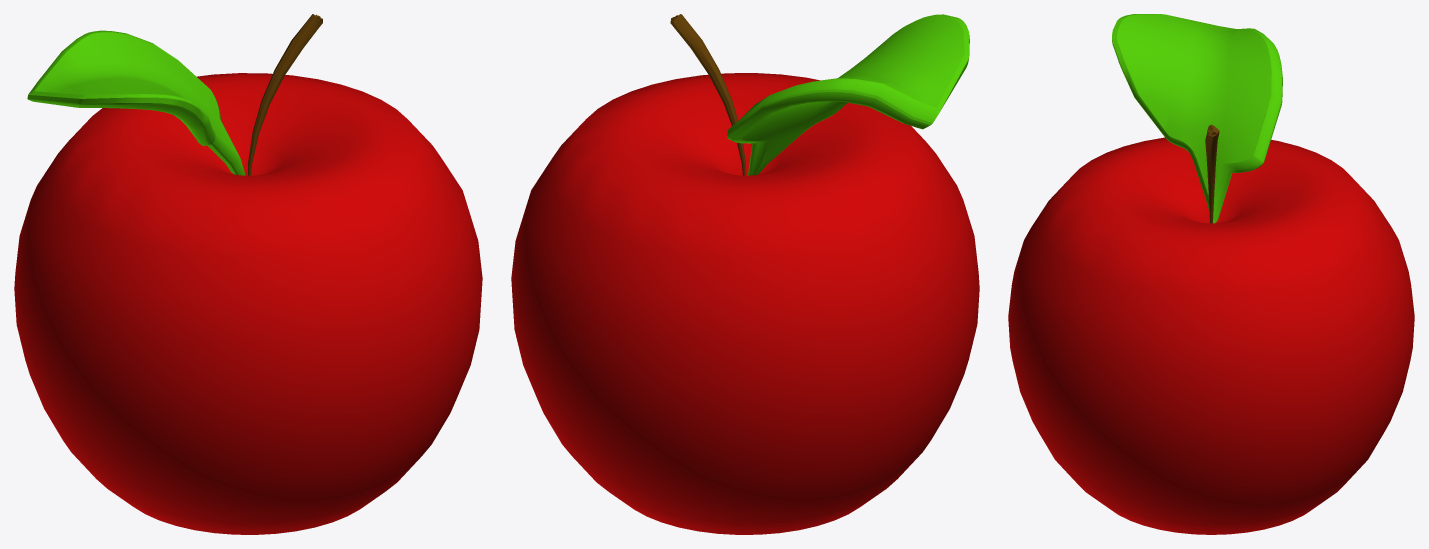
File: apple.fbx
3 views of the same model, side by side, from view 1: azimuth 30°, elevation 25°; view 2: azimuth 150°, elevation 25°; view 3: azimuth 270°, elevation 25° (orthographic). The views are drawn at different scales.
Visible parts, largest first — view 1: Polygon, leaf, stem; view 2: Polygon, leaf, stem; view 3: Polygon, leaf, stem.
Boxes of the visible parts, <box> form: Polygon: <box>14,73,482,534</box>; leaf: <box>27,30,245,175</box>; stem: <box>248,14,322,175</box>; Polygon: <box>511,73,979,534</box>; leaf: <box>727,14,969,175</box>; stem: <box>670,14,745,175</box>; Polygon: <box>1008,137,1414,534</box>; leaf: <box>1112,14,1282,223</box>; stem: <box>1205,124,1219,223</box>.
Size of the model in its own units: 187 by 205 by 185.
